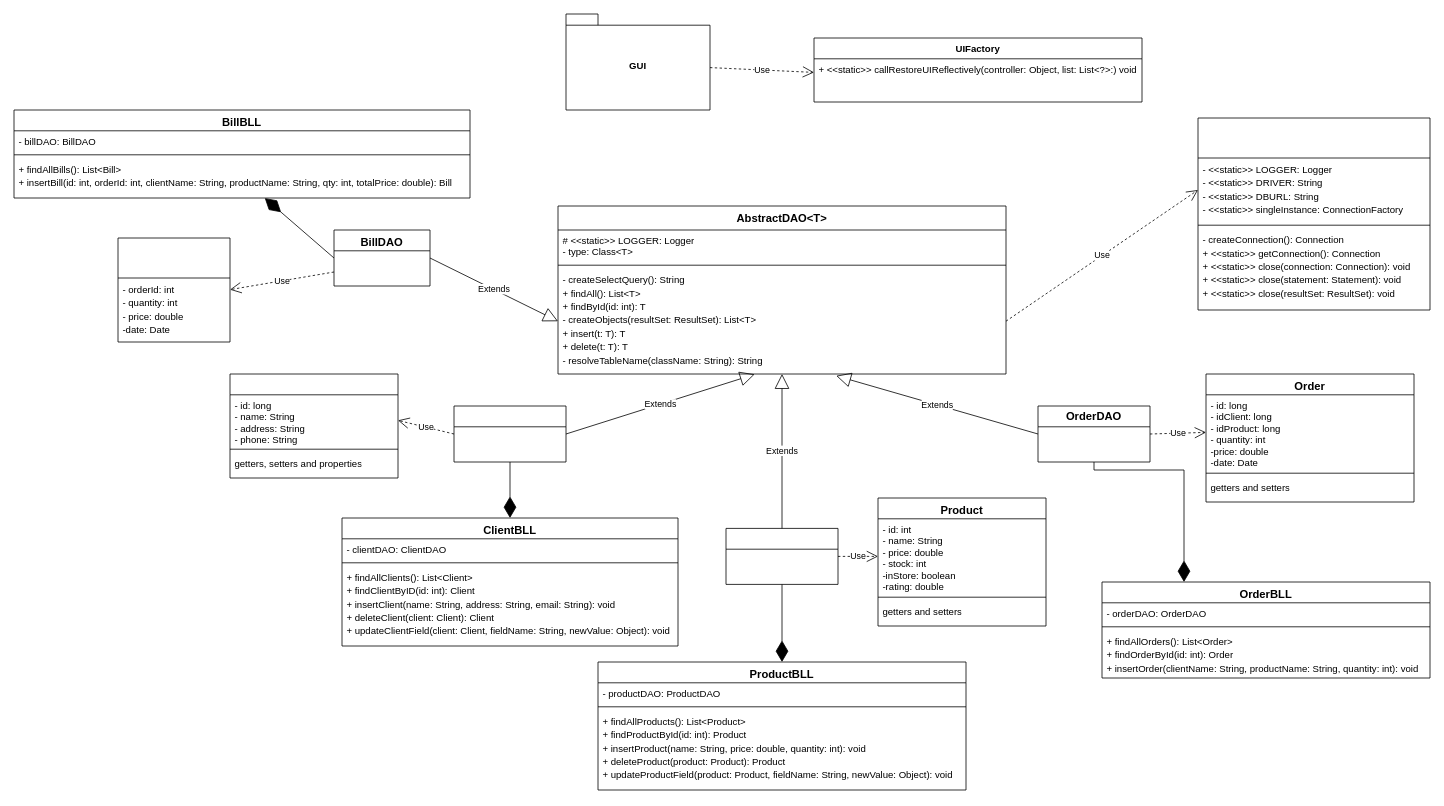
Some shapes in this 1444 by 806 pixel diagram are drawn without their labels. Here are the shapes that lost their labels. From the top down, the box of each, then its label:
(1197, 117, 1430, 310): <<Singleton>> ConnectionFactory
(117, 237, 230, 342): <<record>> Bill
(229, 373, 398, 478): Client
(453, 405, 566, 462): ClientDAO
(725, 528, 838, 584): ProductDAO
